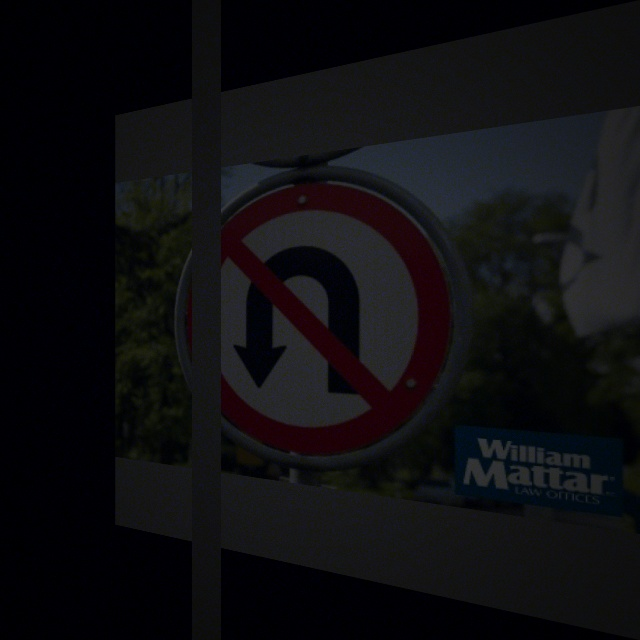U_Turn_Prohibited: (179, 153, 450, 457)
